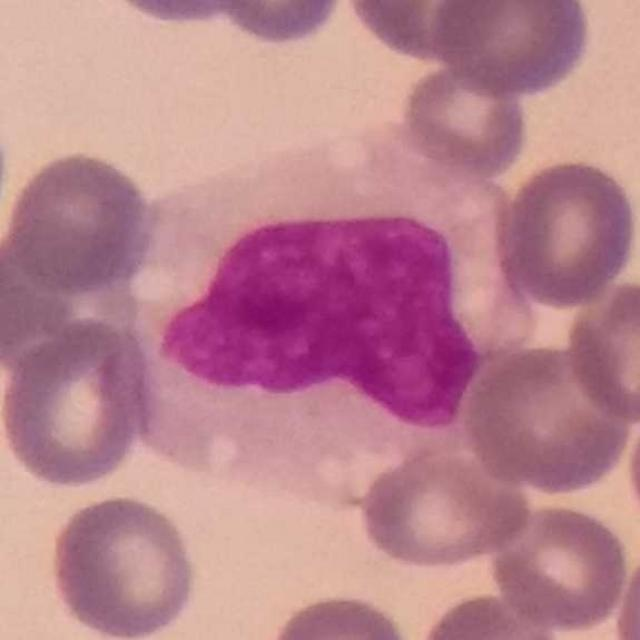mono: (121, 113, 547, 498)
